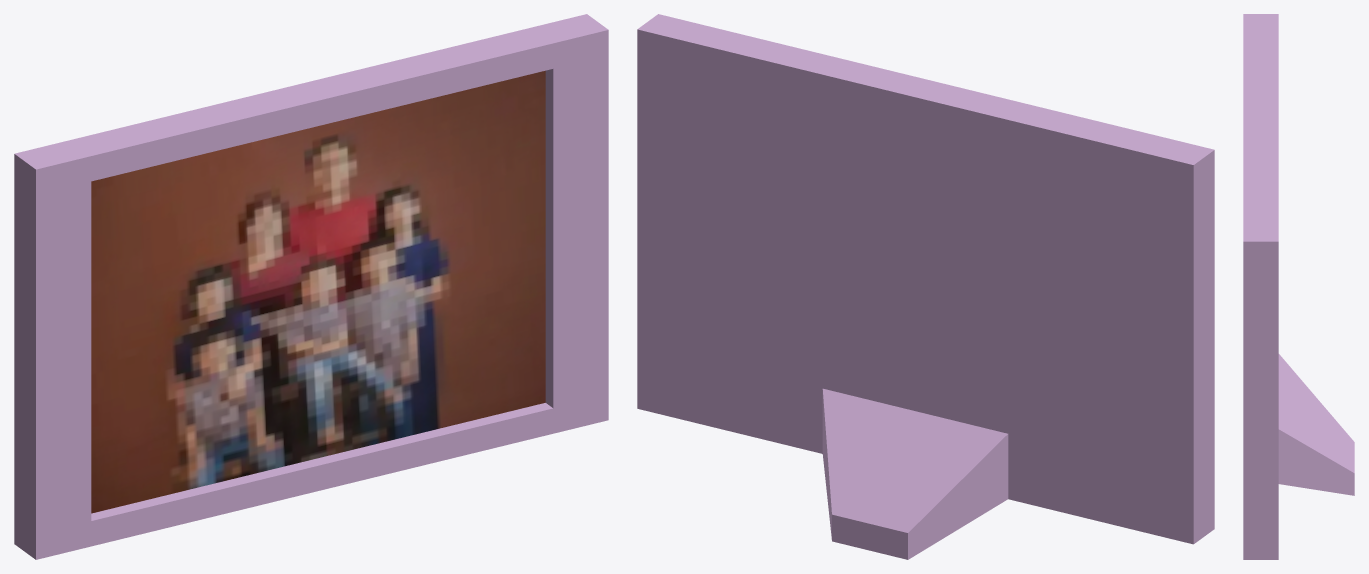
Rendered from frame3.fbx.
3 views of the same model, side by side, from view 1: azimuth 30°, elevation 25°; view 2: azimuth 150°, elevation 25°; view 3: azimuth 270°, elevation 25° (orthographic). The views are drawn at different scales.
Visible parts, largest first — view 1: frame3; view 2: frame3; view 3: frame3.
Boxes of the visible parts, bbox=[...] form: frame3: bbox=[14, 14, 608, 559]; frame3: bbox=[637, 14, 1214, 559]; frame3: bbox=[1243, 14, 1354, 559].
Size of the model in its own units: 33.02 by 23.83 by 6.83.
